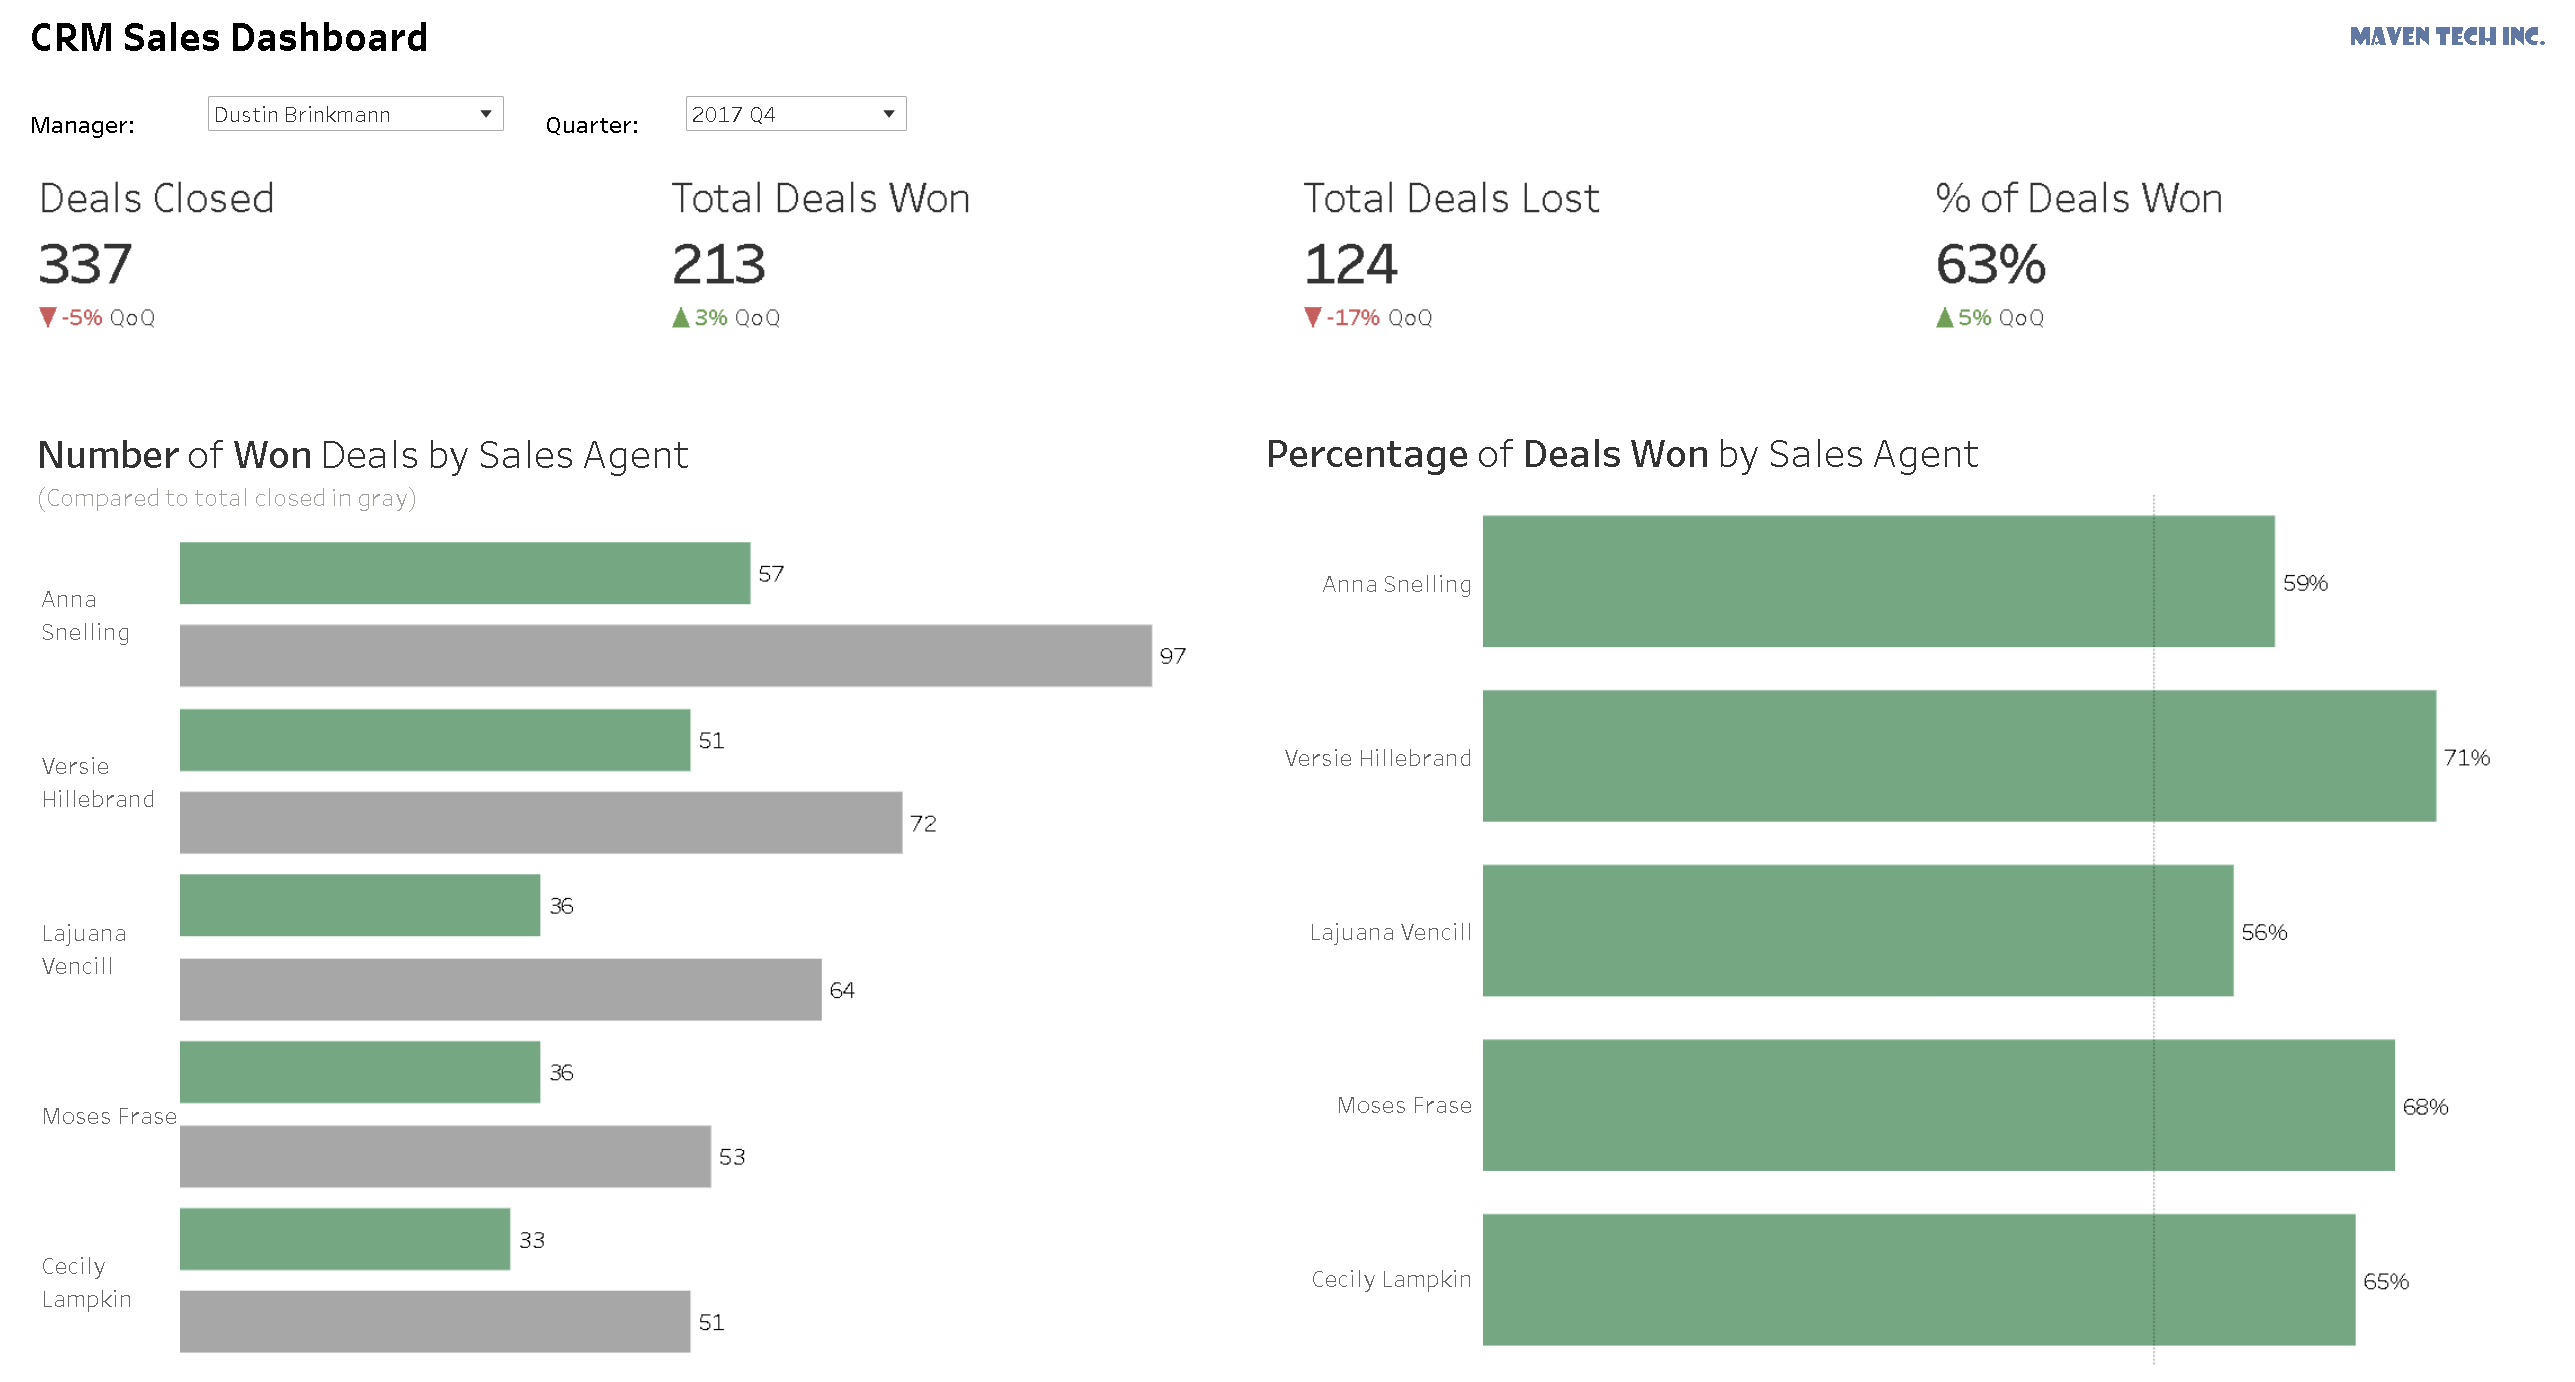

What the dashboard file says about the page in this screenshot:
{"tool":"tableau","page":{"name":"Efficiency Dashboard","canvas":[1366,768],"ordinal":0},"visuals":[{"type":"text","box":[8,8,675,57]},{"type":"text","box":[683,8,675,57]},{"type":"text","box":[8,65,94,38]},{"type":"filter","title":"KPI Total Deals Closed","param":"[federated.1rdbeku1b0a2o613jef0j0olita1].[none:manager:nk]","box":[102,65,168,38]},{"type":"text","box":[270,65,87,38]},{"type":"parameter","param":"[Parameters].[Parameter 2]","box":[357,65,128,38]},{"type":"worksheet","title":"KPI Total Deals Closed","mark":"Automatic","box":[8,103,337.5,132]},{"type":"worksheet","title":"KPI Total Deals Won","mark":"Automatic","box":[345.5,103,337.5,132]},{"type":"worksheet","title":"KPI Total Deals Lost","mark":"Automatic","box":[683,103,337.5,132]},{"type":"worksheet","title":"KPI Deals Won %","mark":"Automatic","box":[1020.5,103,337.5,132]},{"type":"worksheet","title":"Deals Won by Sales Agent","mark":"Automatic","rows":["sales_agent"],"box":[8,235,675,525]},{"type":"worksheet","title":"Win % by Sales Agent","mark":"Automatic","rows":["sales_agent"],"cols":["Calculation_2355664136928526378"],"box":[683,235,675,525]}]}

Visuals, with their boxes on the page's 1366x768 design canvas (x1, y1, x2, y2). These are canvas units, not pixel positions in the 2575x1382 screenshot, which may show the page scaled, cropped or inside an application window:
text: <region>8, 8, 683, 65</region>
text: <region>683, 8, 1358, 65</region>
text: <region>8, 65, 102, 103</region>
"KPI Total Deals Closed" filter: <region>102, 65, 270, 103</region>
text: <region>270, 65, 357, 103</region>
parameter: <region>357, 65, 485, 103</region>
"KPI Total Deals Closed" worksheet: <region>8, 103, 346, 235</region>
"KPI Total Deals Won" worksheet: <region>346, 103, 683, 235</region>
"KPI Total Deals Lost" worksheet: <region>683, 103, 1020, 235</region>
"KPI Deals Won %" worksheet: <region>1020, 103, 1358, 235</region>
"Deals Won by Sales Agent" worksheet: <region>8, 235, 683, 760</region>
"Win % by Sales Agent" worksheet: <region>683, 235, 1358, 760</region>
